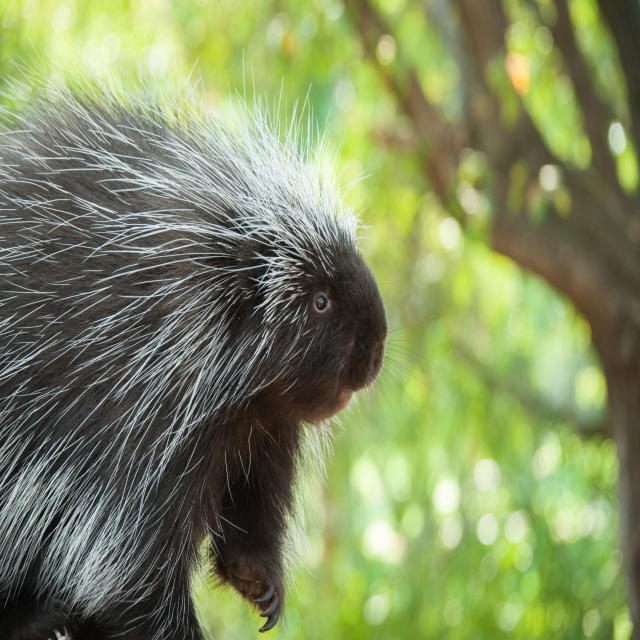Porcupine: (0, 80, 388, 640)
